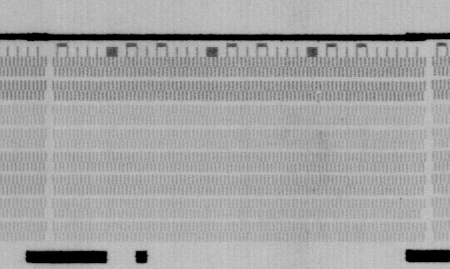Broken hole: (418, 210, 428, 220)
Oblique printing: (314, 91, 324, 104)
